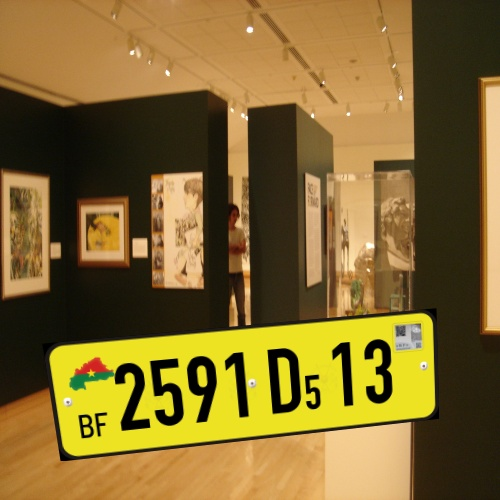plate: (30, 301, 460, 475)
